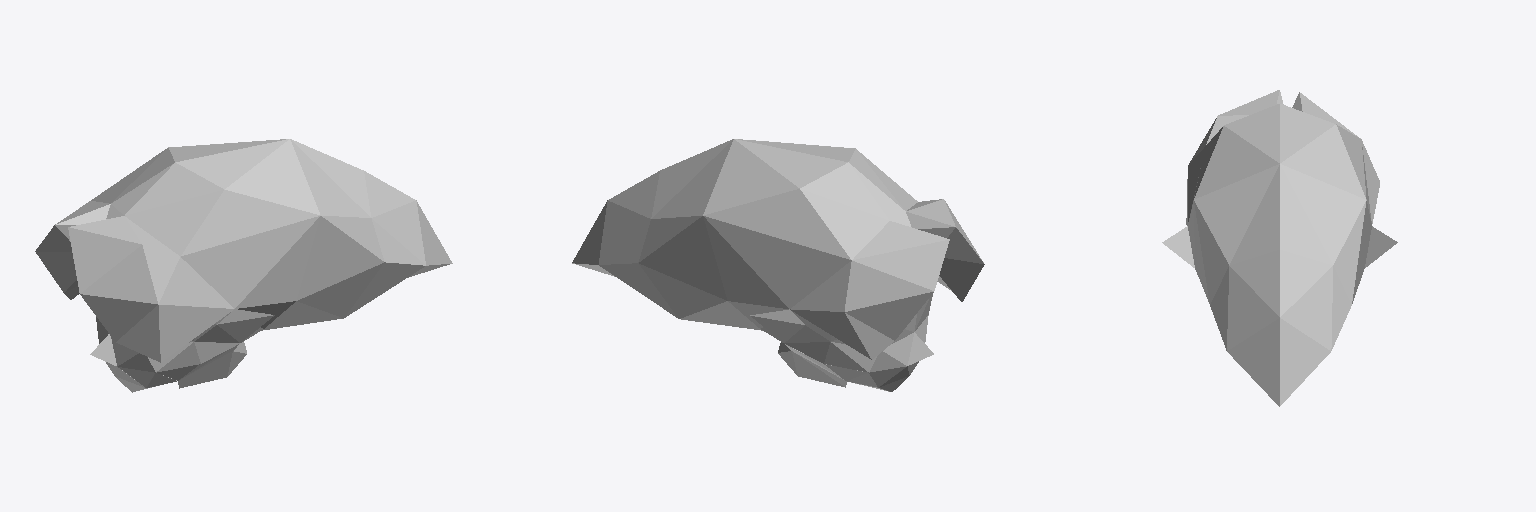
The model's file is Cabeza.obj.
The picture shows the model from 3 angles: view 1: azimuth 30°, elevation 25°; view 2: azimuth 150°, elevation 25°; view 3: azimuth 270°, elevation 25°; orthographic projection.
Visible parts, largest first — view 1: polySurface14 polySurface13 polySurface10 polySurface7 polySurfa; view 2: polySurface14 polySurface13 polySurface10 polySurface7 polySurfa; view 3: polySurface14 polySurface13 polySurface10 polySurface7 polySurfa.
Boxes of the visible parts, box(x1,y1,x2,y2) form: polySurface14 polySurface13 polySurface10 polySurface7 polySurfa: box(35, 139, 452, 392); polySurface14 polySurface13 polySurface10 polySurface7 polySurfa: box(572, 139, 984, 391); polySurface14 polySurface13 polySurface10 polySurface7 polySurfa: box(1162, 90, 1397, 406).
Bounding box in the file's own units: 0.9963 × 0.5488 × 0.5186.